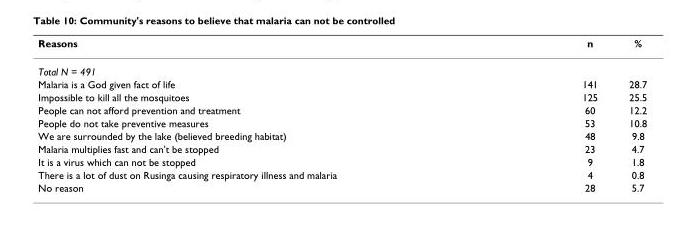table: (37, 36, 646, 193)
table column: (37, 36, 458, 193), (458, 36, 612, 193), (612, 36, 646, 193)
table column header: (37, 36, 646, 56)
table projected row header: (37, 56, 646, 77)
table row: (37, 56, 646, 77), (37, 36, 646, 56), (37, 77, 646, 90), (37, 90, 646, 103), (37, 103, 646, 116), (37, 116, 646, 129), (37, 129, 646, 142), (37, 154, 646, 167), (37, 167, 646, 180), (37, 180, 646, 193), (37, 142, 646, 154)
